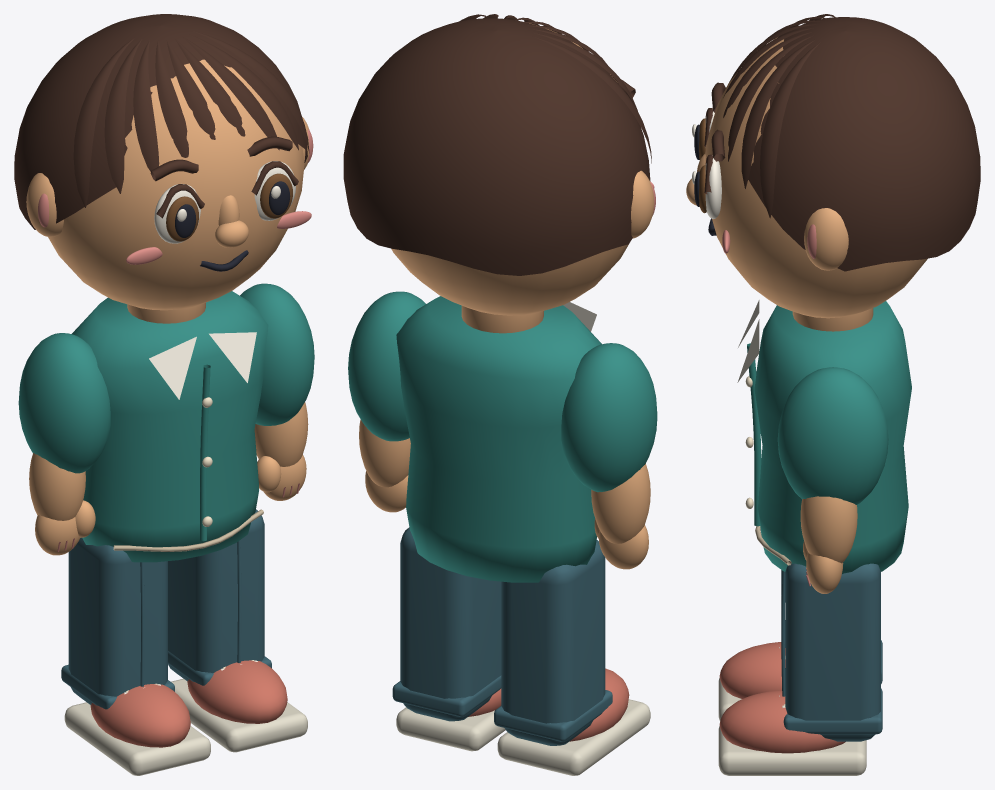
The model's file is male.glb.
3 renders of one model, left to right at view 1: azimuth 30°, elevation 25°; view 2: azimuth 150°, elevation 25°; view 3: azimuth 270°, elevation 25°, orthographic. The views are drawn at different scales.
Visible parts, largest first — view 1: Crafted_teal, Head_hair, Head_skin, LegL_pants, LegR_pants, ArmL_teal, ArmR_teal, ArmL_skin, LegL_coral, LegR_coral, LegL_rubber, ArmR_skin (+8 smaller); view 2: Head_hair, Crafted_teal, LegL_pants, LegR_pants, ArmL_teal, Head_skin, ArmR_teal, ArmL_skin, LegL_rubber, ArmR_skin, LegR_rubber, Crafted_skin (+1 smaller); view 3: Head_hair, Crafted_teal, Head_skin, LegR_pants, ArmR_teal, ArmR_skin, LegR_coral, LegR_rubber, LegL_coral, Crafted_skin, Head_white, Crafted_white (+1 smaller).
Part boxes in pixels (box(x1,y1,x2,y2)): Crafted_teal: box(72, 291, 268, 562); Head_hair: box(14, 14, 309, 229); Head_skin: box(26, 59, 309, 310); LegL_pants: box(61, 537, 174, 709); LegR_pants: box(168, 509, 271, 685); ArmL_teal: box(18, 333, 110, 473); ArmR_teal: box(240, 283, 314, 425); ArmL_skin: box(29, 453, 95, 555); LegL_coral: box(90, 684, 190, 747); LegR_coral: box(187, 660, 287, 723); LegL_rubber: box(64, 702, 210, 775); ArmR_skin: box(254, 402, 308, 500); Head_hair: box(343, 14, 651, 275); Crafted_teal: box(396, 296, 601, 582); LegL_pants: box(494, 540, 612, 745); LegR_pants: box(392, 527, 501, 721); ArmL_teal: box(561, 343, 657, 492); Head_skin: box(391, 23, 654, 315); ArmR_teal: box(348, 291, 425, 441); ArmL_skin: box(591, 463, 650, 569); LegL_rubber: box(497, 699, 650, 775); ArmR_skin: box(359, 419, 410, 512); LegR_rubber: box(396, 707, 505, 751); Crafted_skin: box(461, 305, 543, 333); Head_hair: box(704, 14, 980, 271); Crafted_teal: box(747, 301, 911, 573); Head_skin: box(686, 37, 927, 318); LegR_pants: box(781, 563, 882, 741); ArmR_teal: box(777, 367, 888, 504); ArmR_skin: box(800, 496, 857, 593); LegR_coral: box(719, 690, 845, 753); LegR_rubber: box(718, 726, 866, 775); LegL_coral: box(719, 642, 785, 698); Crafted_skin: box(792, 308, 873, 331); Head_white: box(692, 111, 721, 218); Crafted_white: box(737, 300, 759, 382).
Bounding box in the file's own units: 0.98 × 2.31 × 0.8762.
